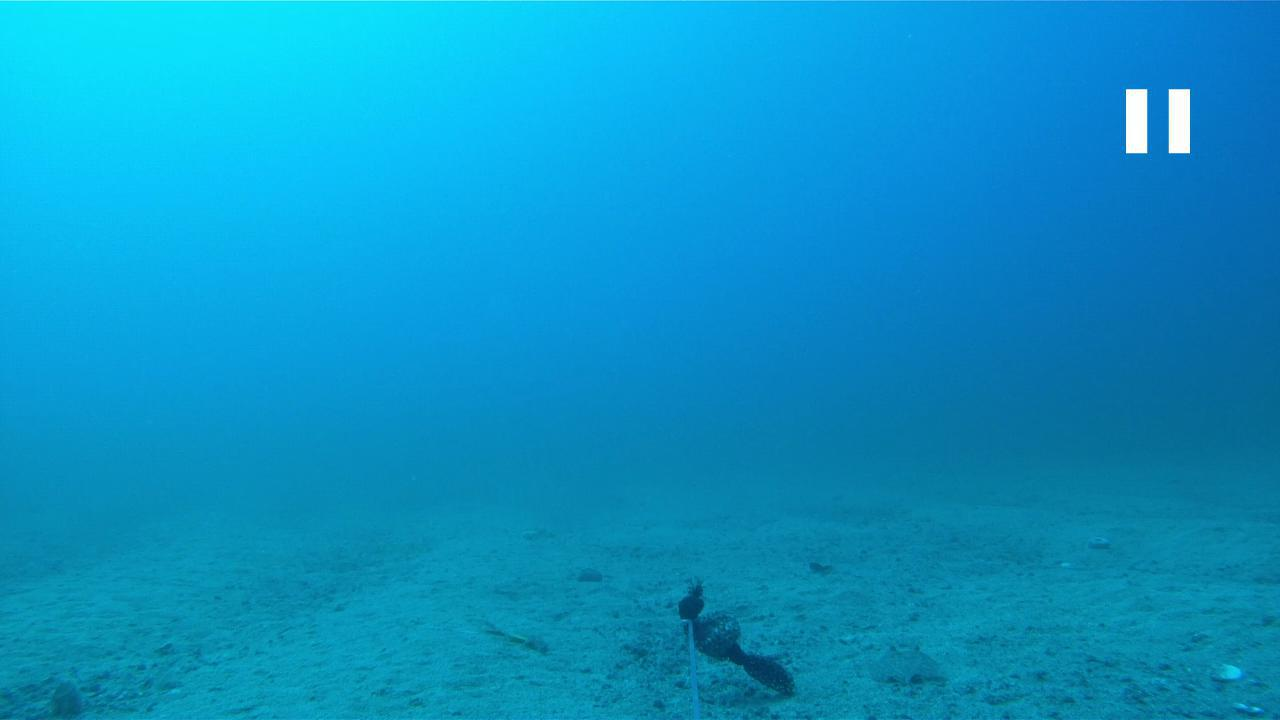bothus: (863, 642, 948, 694)
